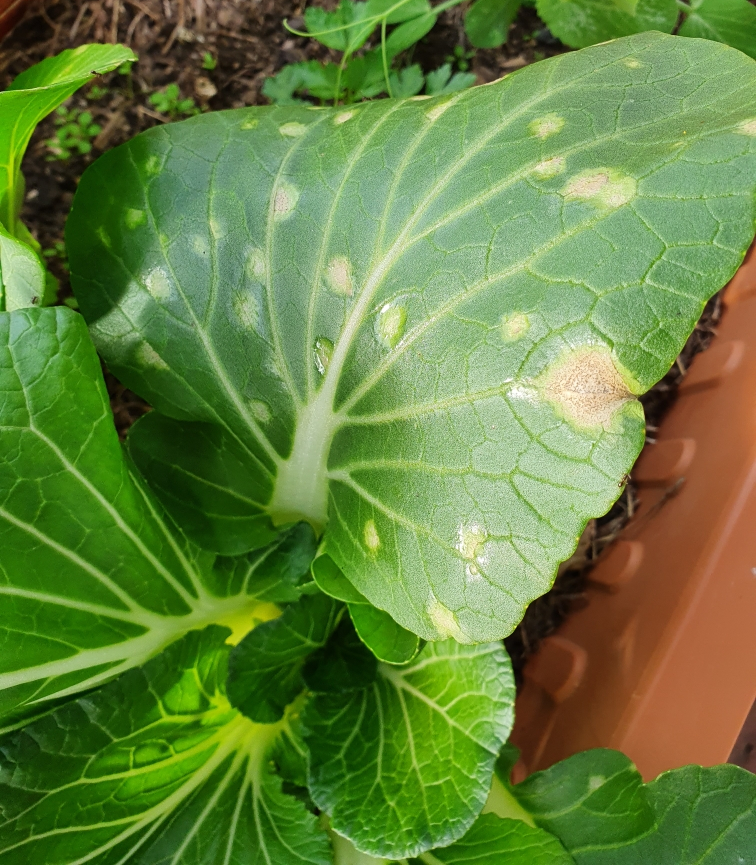Cabbage_AlteriaLeafSpot: (143, 79, 637, 604)
